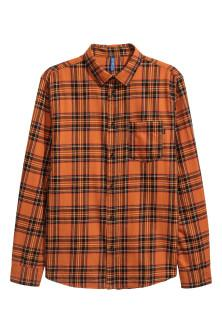teeshirt: (8, 43, 214, 292)
